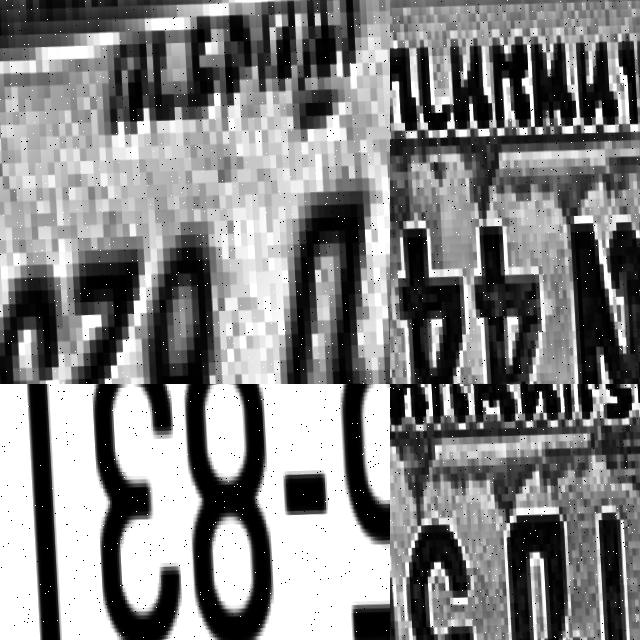license-plate: (0, 0, 390, 384), (0, 384, 390, 640), (390, 0, 640, 384), (390, 384, 640, 640)
